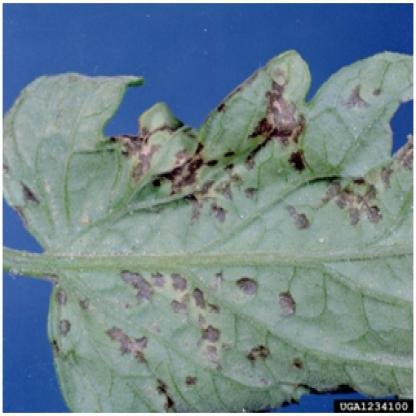tomato leaf bacterial spot: (5, 48, 415, 402)
